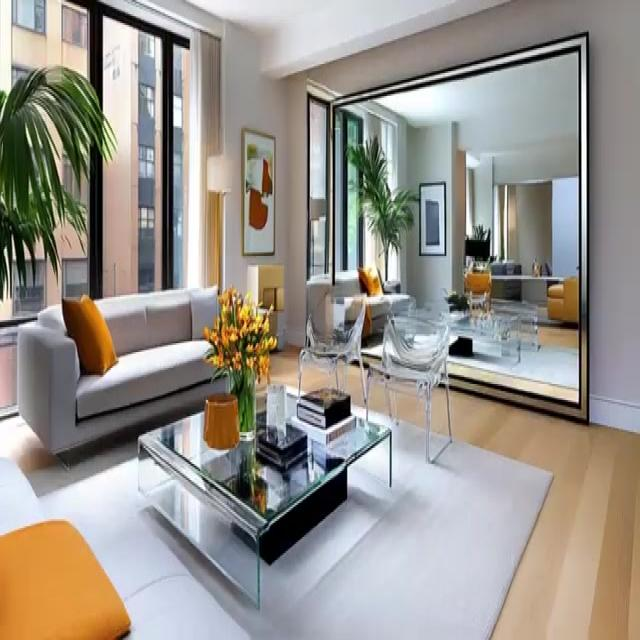obstacle: (136, 388, 392, 608)
